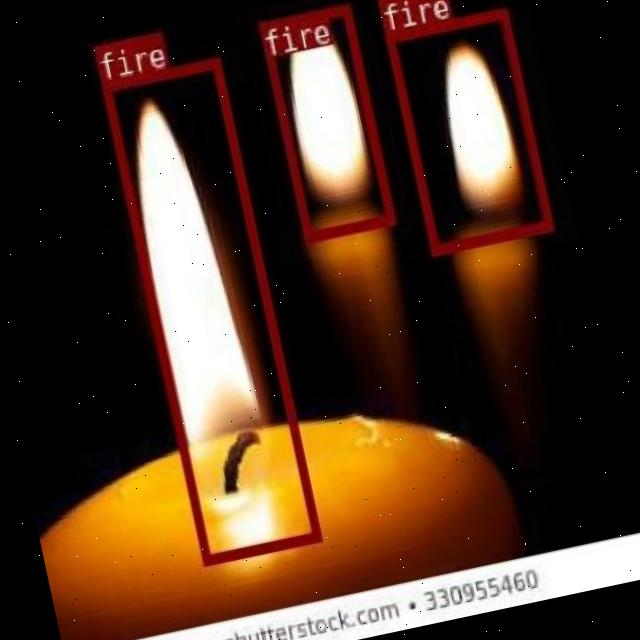fire: (100, 56, 320, 564), (384, 6, 552, 254), (257, 2, 394, 240)
